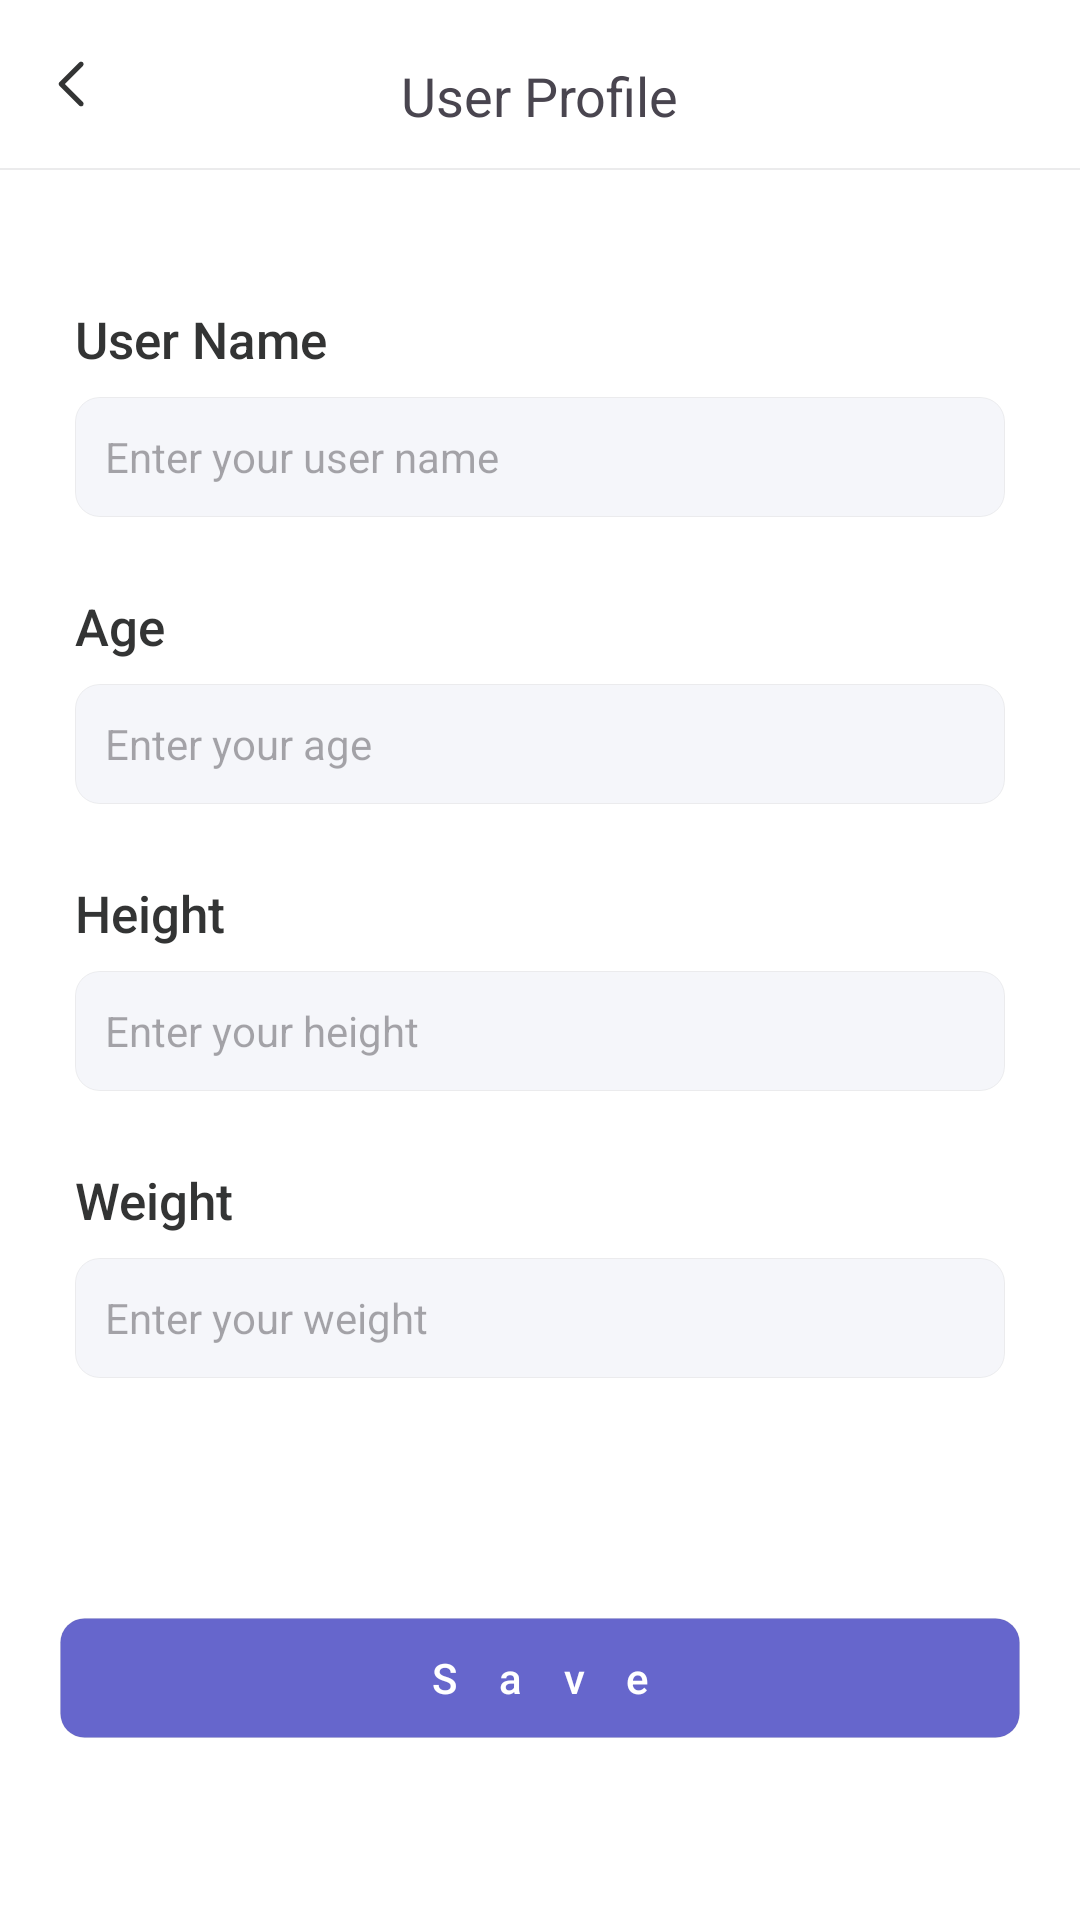

Point at icon controls on the screen. Image size 1080*1920, points as point (x, y).
public back: point (71, 84)
